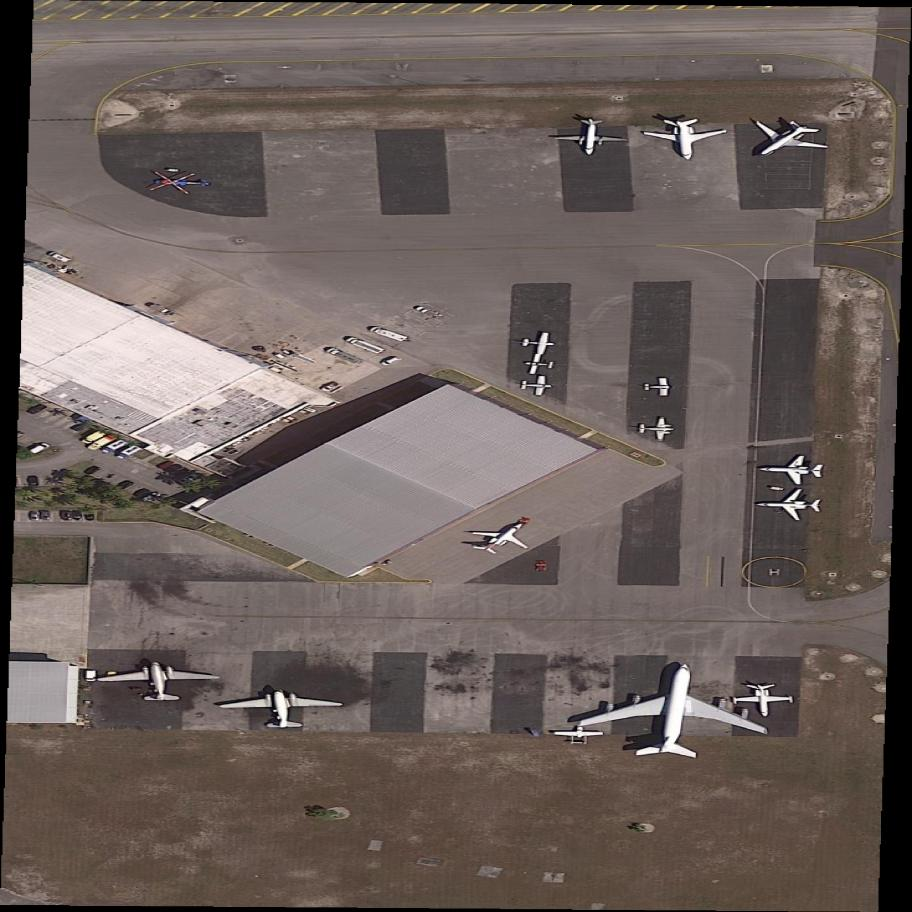large-vehicle: (344, 333, 387, 357), (324, 345, 366, 367), (369, 324, 411, 344)
plane: (568, 656, 782, 765), (719, 100, 844, 182), (459, 509, 550, 567), (96, 661, 221, 703), (220, 691, 346, 730), (638, 114, 731, 162), (553, 117, 629, 157), (754, 487, 828, 522), (730, 681, 795, 718), (757, 453, 826, 487), (551, 726, 604, 746), (520, 330, 560, 356), (637, 416, 675, 441), (519, 374, 556, 398), (521, 352, 558, 376), (645, 377, 676, 396)
ship: (223, 443, 246, 460)
small-vehicle: (84, 433, 116, 455), (114, 441, 144, 464), (99, 437, 132, 457), (78, 427, 109, 448), (112, 476, 138, 495), (45, 249, 74, 266), (27, 440, 53, 458), (129, 485, 154, 502), (141, 489, 165, 506), (378, 353, 403, 369), (320, 379, 344, 395), (26, 402, 50, 417), (81, 463, 104, 478), (177, 472, 200, 486), (163, 462, 186, 476), (155, 458, 175, 472), (82, 509, 97, 522), (26, 475, 41, 487), (71, 508, 83, 522), (86, 670, 99, 682), (59, 510, 73, 521), (40, 510, 52, 522), (29, 510, 42, 521)
